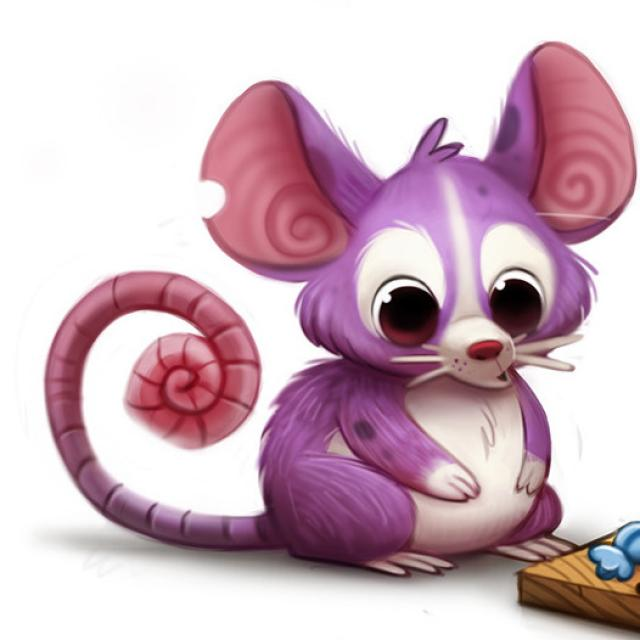Rattata: (248, 82, 578, 564)
